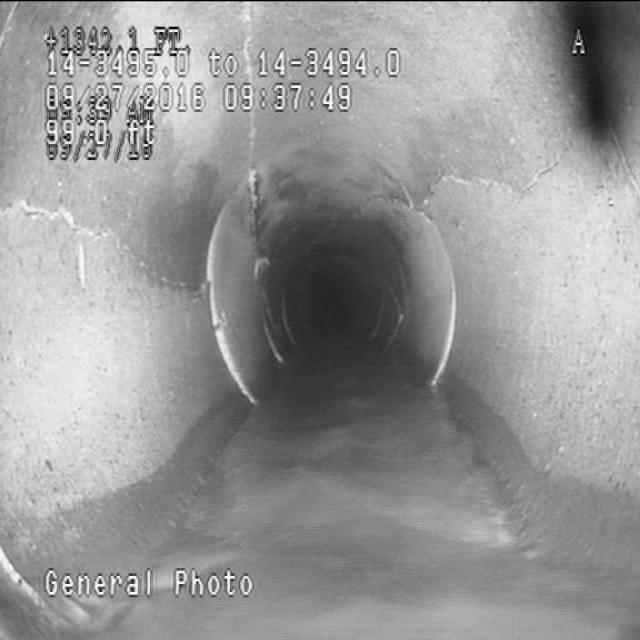Crack: (20, 186, 193, 306), (422, 129, 582, 210)
